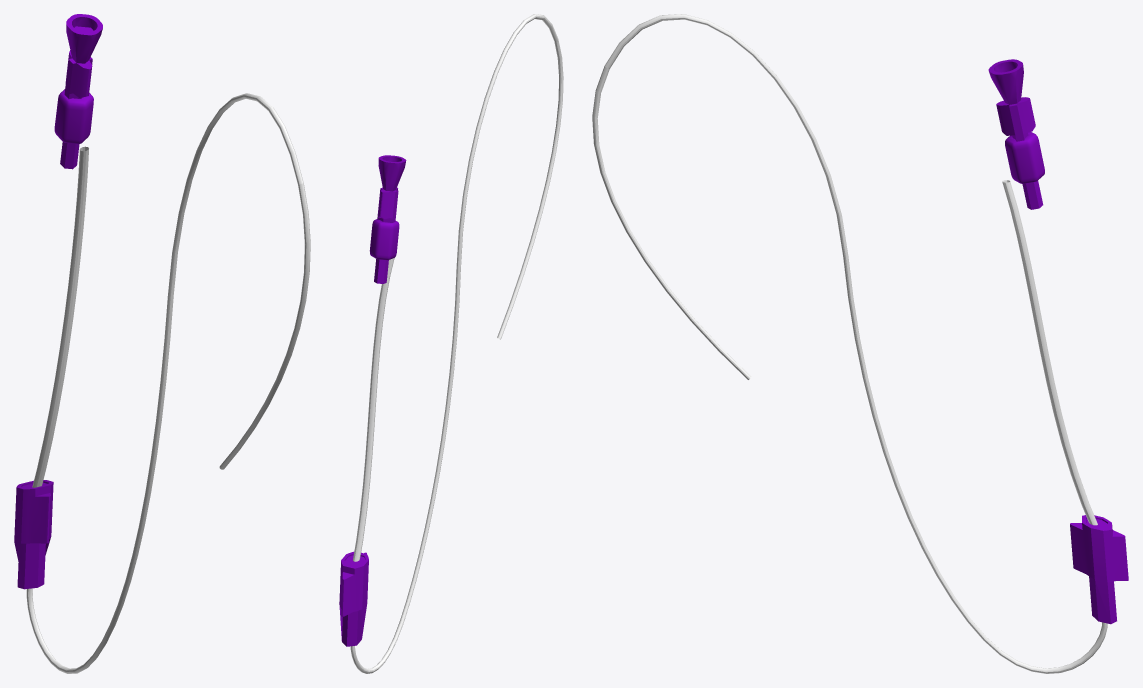
Rendered from Cateter de 1,9 Fr.fbx.
3 views of the same model, side by side, from view 1: azimuth 30°, elevation 25°; view 2: azimuth 150°, elevation 25°; view 3: azimuth 270°, elevation 25° (orthographic). The views are drawn at different scales.
Parts seen in each view (by area): view 1: Fio de entrada, Peca1, Peca2, Bézier - Curva, Ponta do fio de entrada; view 2: Fio de entrada, Peca1, Peca2, Bézier - Curva, Ponta do fio de entrada; view 3: Fio de entrada, Peca1, Peca2, Bézier - Curva, Ponta do fio de entrada.
Boxes of the visible parts, x1,y1,x2,y2 form: Fio de entrada: (26, 93, 303, 673); Peca1: (54, 14, 102, 169); Peca2: (14, 480, 53, 589); Bézier - Curva: (32, 146, 88, 487); Ponta do fio de entrada: (219, 183, 310, 469); Fio de entrada: (350, 14, 558, 673); Peca1: (369, 155, 406, 283); Peca2: (339, 551, 368, 646); Bézier - Curva: (353, 258, 394, 561); Ponta do fio de entrada: (497, 40, 563, 339); Fio de entrada: (604, 14, 1107, 673); Peca1: (988, 59, 1044, 209); Peca2: (1070, 515, 1128, 624); Bézier - Curva: (1002, 180, 1097, 525); Ponta do fio de entrada: (592, 66, 750, 379).
Bounding box in the file's own units: 21.98 × 496 × 365.
